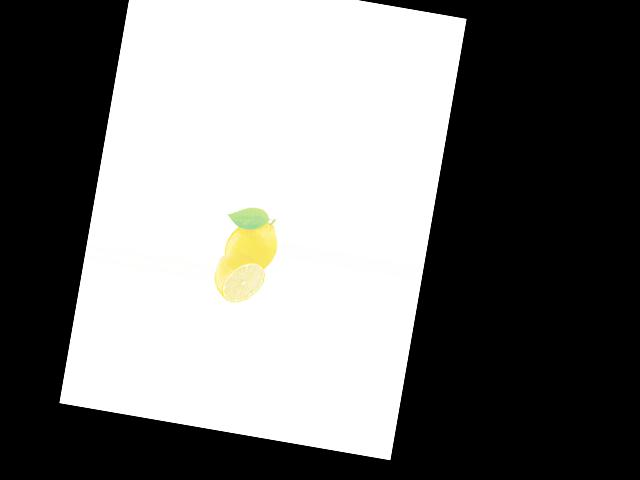lemon: (221, 210, 282, 271)
